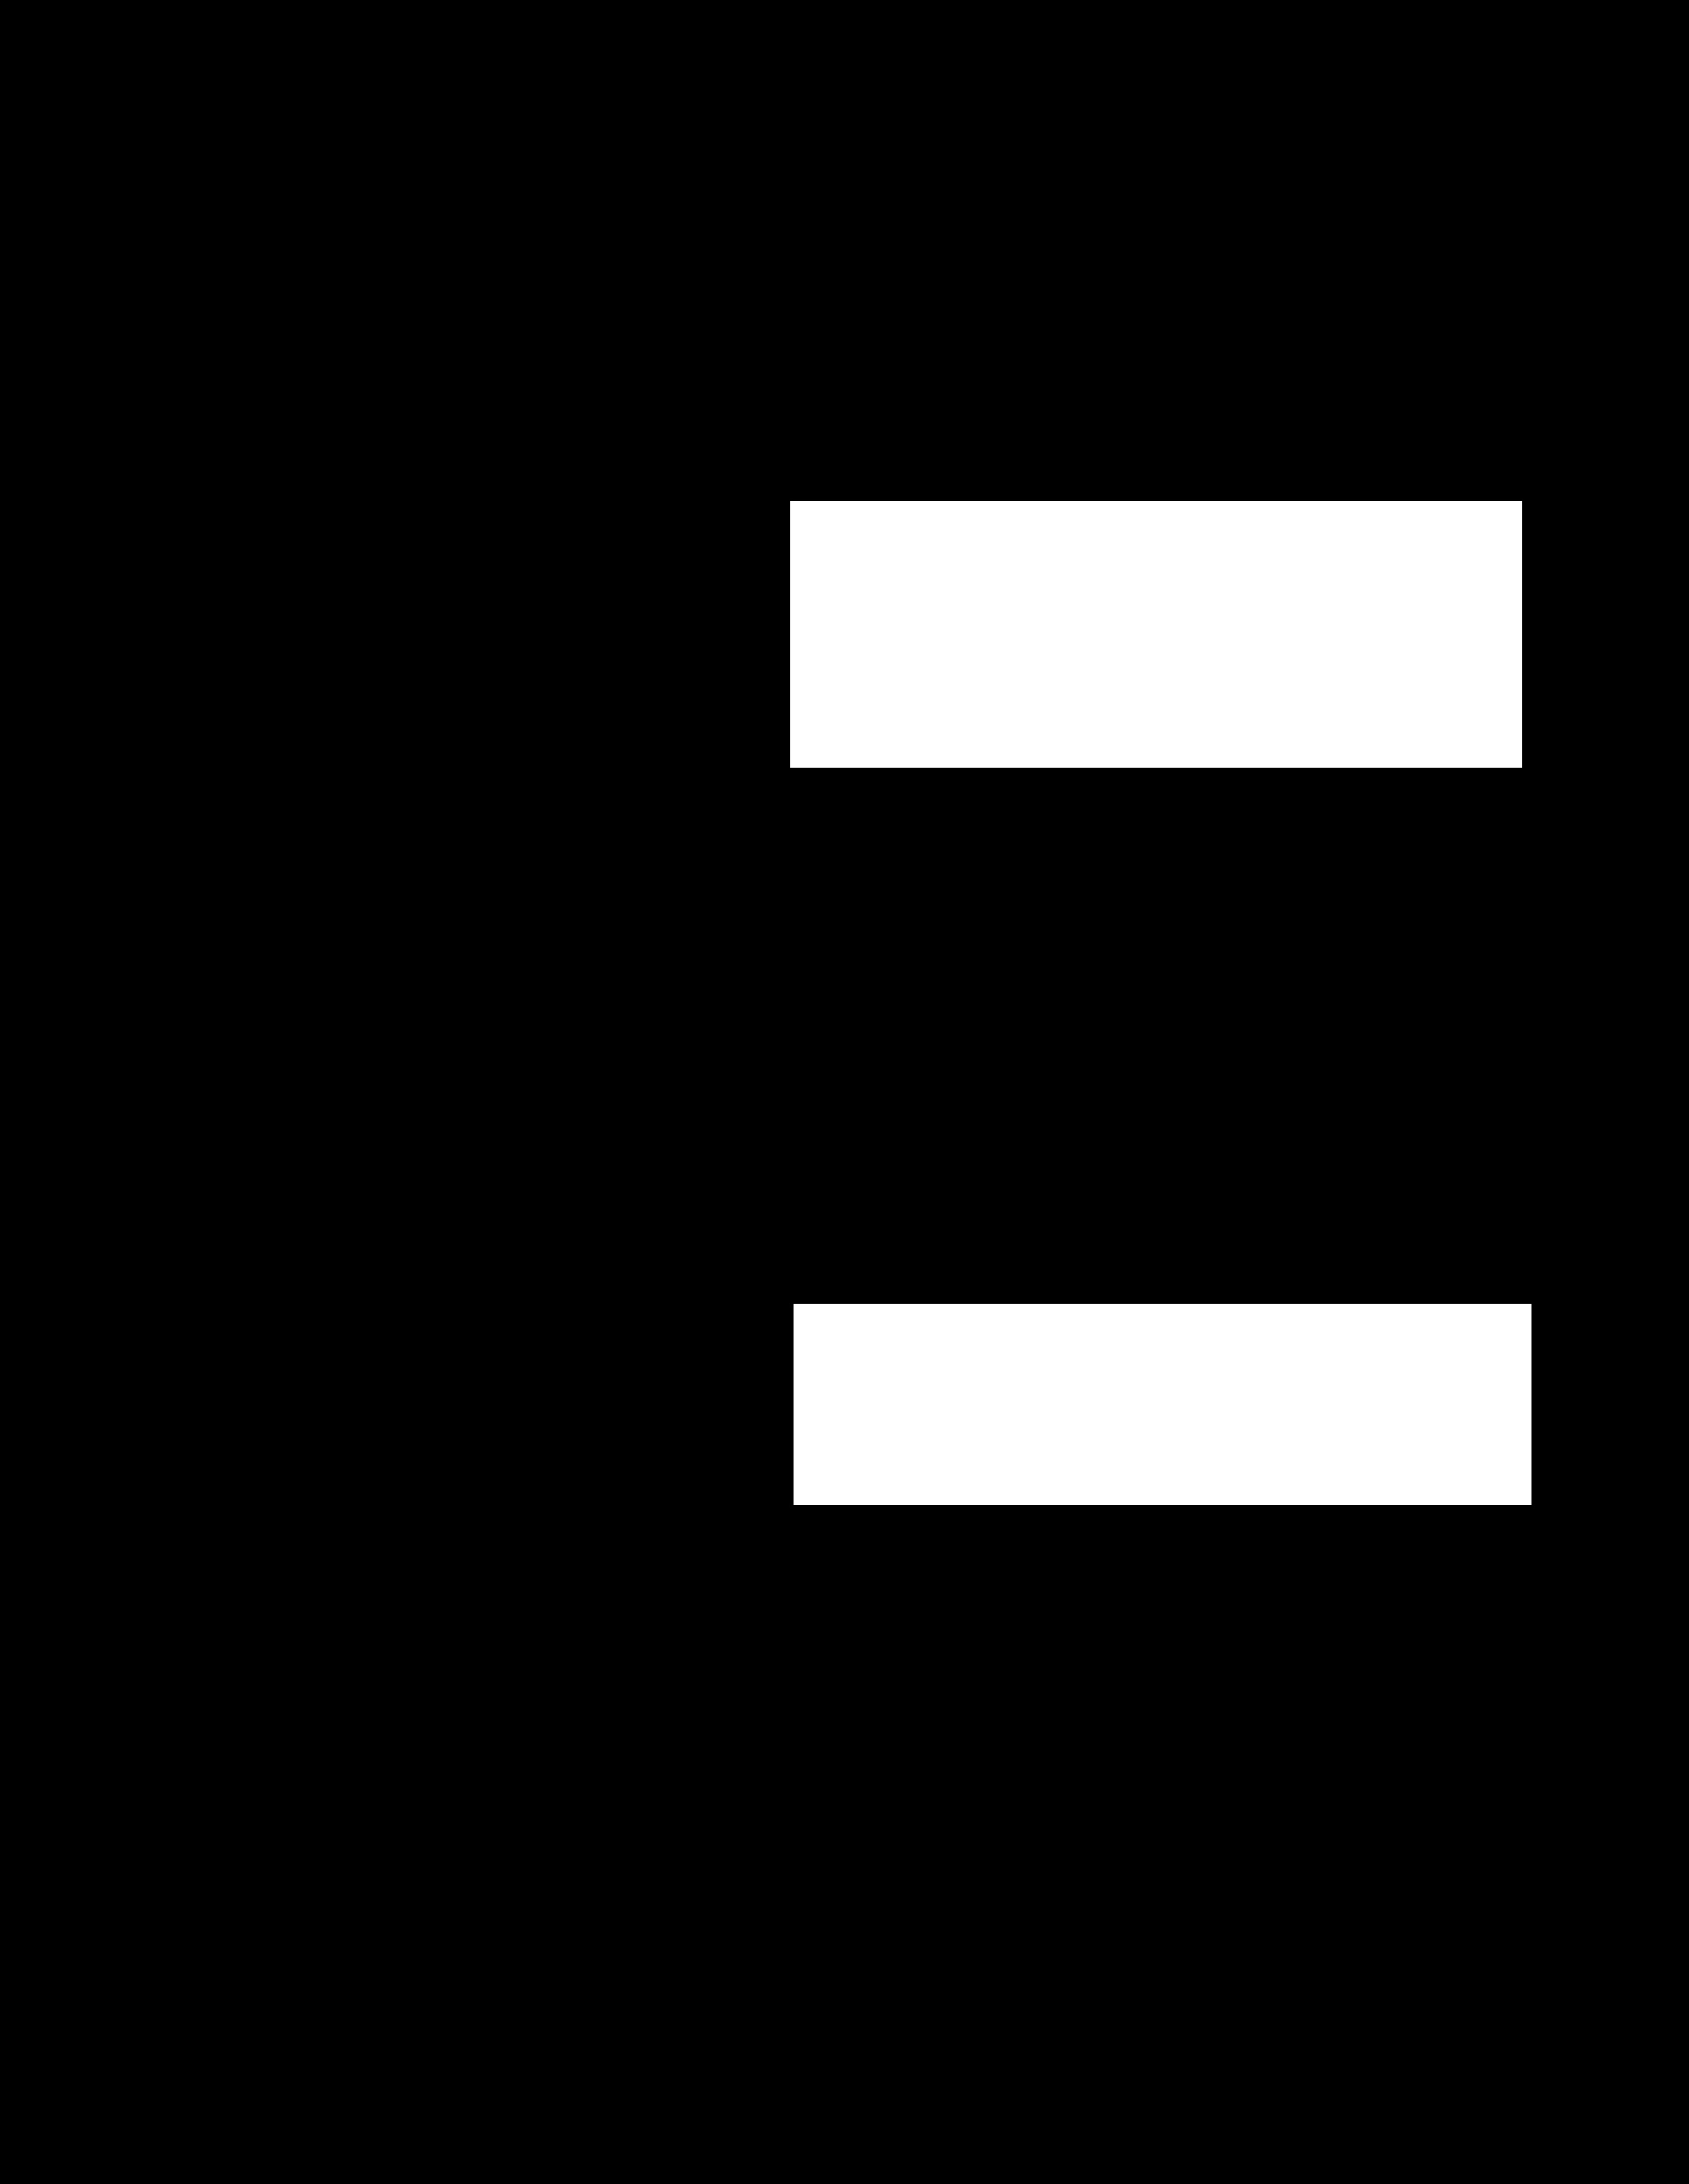table: (790, 502, 1522, 768), (794, 1303, 1531, 1505)
